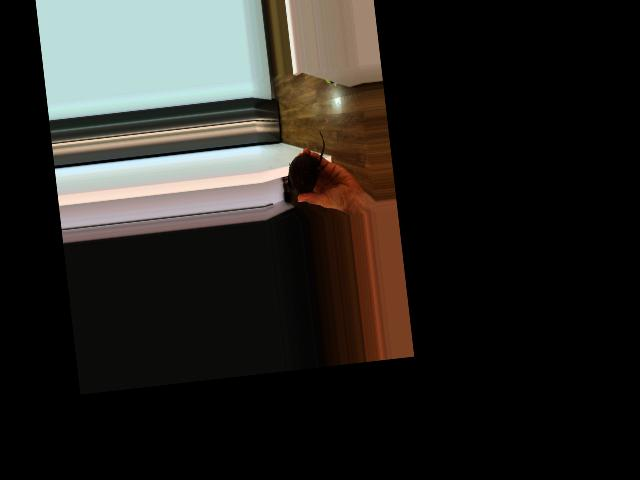beet: (282, 130, 329, 194)
